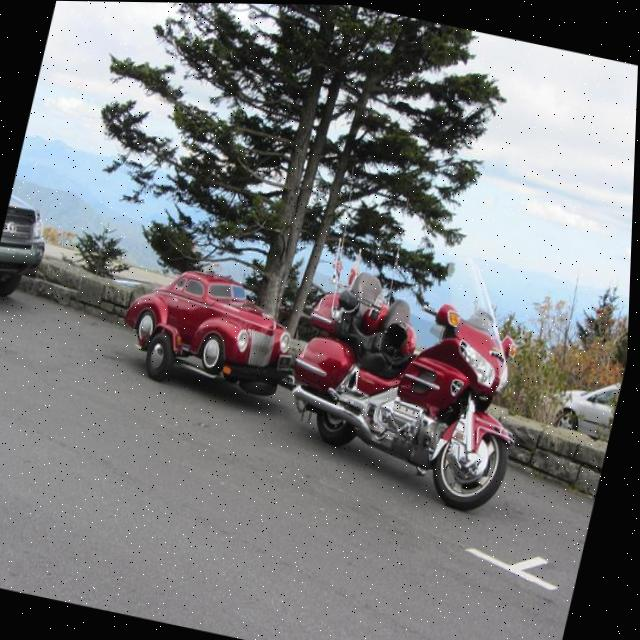car: (543, 353, 626, 470), (0, 193, 58, 311)
motorcycle: (262, 214, 563, 523)
